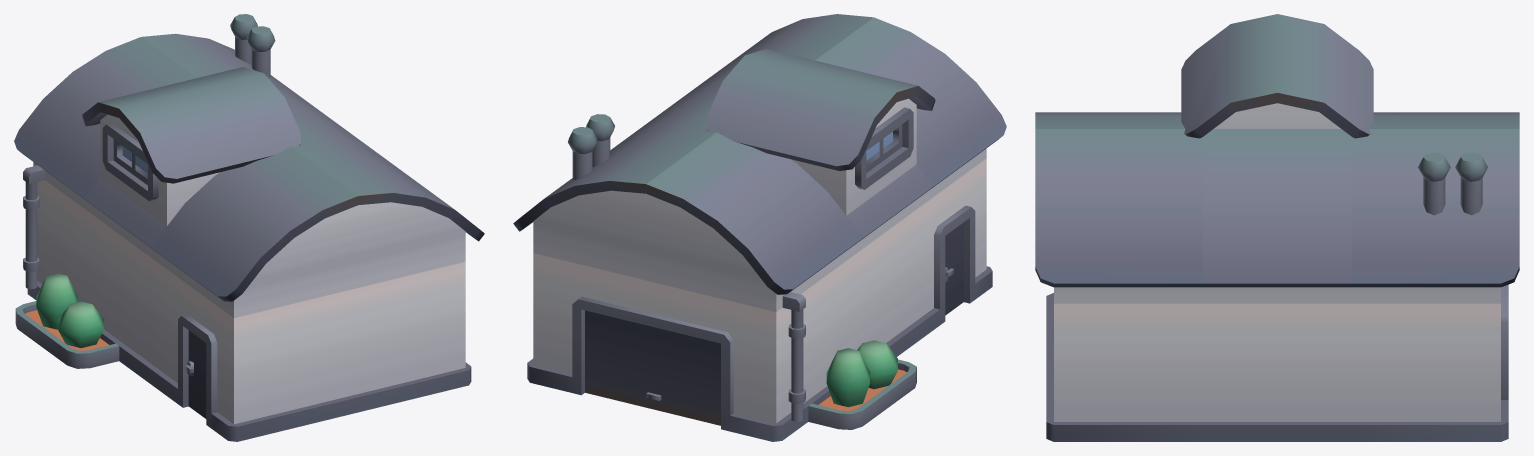
Rendered from ind_building_j.glb.
3 views of the same model, side by side, from view 1: azimuth 30°, elevation 25°; view 2: azimuth 150°, elevation 25°; view 3: azimuth 270°, elevation 25° (orthographic). The views are drawn at different scales.
Parts seen in each view (by area): view 1: building-j; view 2: building-j; view 3: building-j.
Boxes of the visible parts, x1,y1,x2,y2 form: building-j: (14, 14, 484, 441); building-j: (513, 14, 1006, 441); building-j: (1035, 14, 1519, 441).
Size of the model in its own units: 1.03 by 0.8611 by 1.3.
Materials: 1 (1 with a texture image).
